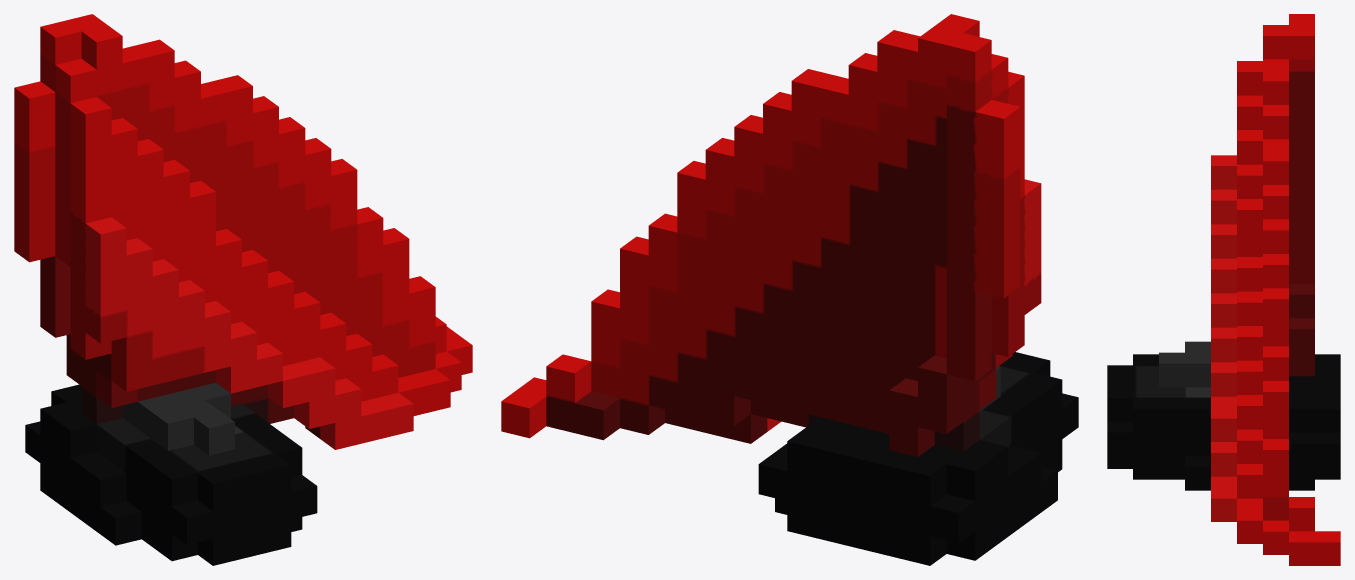
File: piromant_leg2.obj
3 renders of one model, left to right at view 1: azimuth 30°, elevation 25°; view 2: azimuth 150°, elevation 25°; view 3: azimuth 270°, elevation 25°, orthographic. The views are drawn at different scales.
Visible parts, largest first — view 1: piromant_leg2_piromant_leg2.001; view 2: piromant_leg2_piromant_leg2.001; view 3: piromant_leg2_piromant_leg2.001.
Part boxes in pixels (<box>): piromant_leg2_piromant_leg2.001: <box>14,14,472,565</box>; piromant_leg2_piromant_leg2.001: <box>501,14,1078,565</box>; piromant_leg2_piromant_leg2.001: <box>1107,14,1340,565</box>.
Bounding box in the file's own units: 1.7 × 1.7 × 0.9.
Materials: 1 (1 with a texture image).
